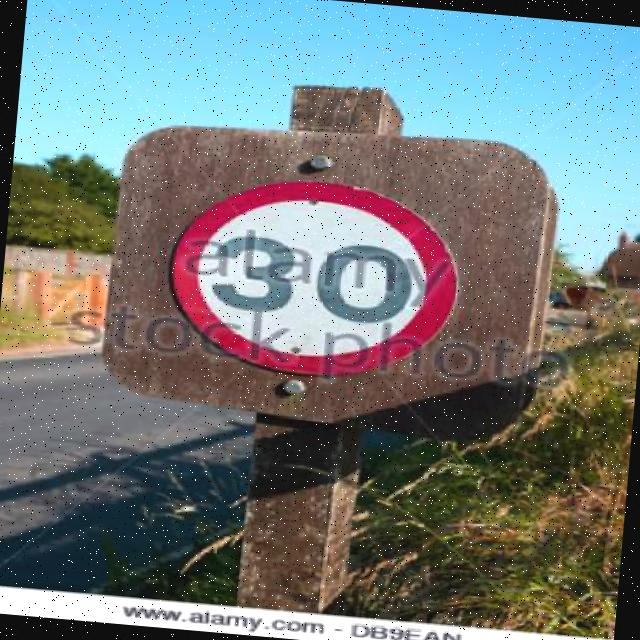Ograniczenie predkosci do 30: (164, 168, 461, 387)
